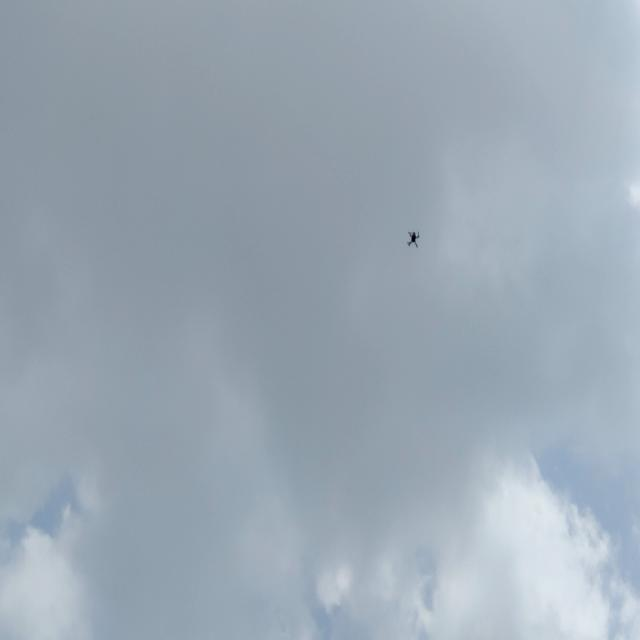drone: (406, 229, 422, 249)
